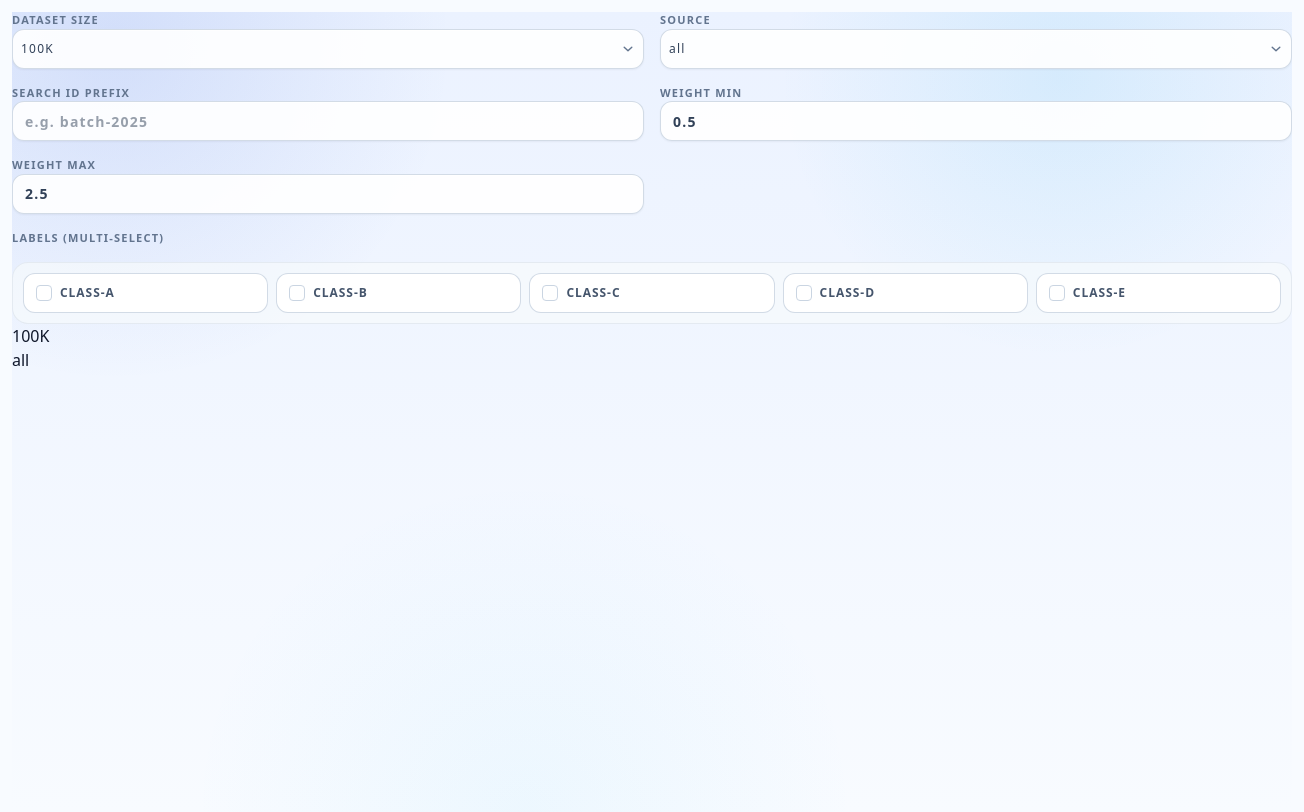
FiltersPanel › updates dataset size
This screenshot has width=1304, height=812.
Step 1. Click the dropdown named "Dataset size" → point(37, 48), box [12,28,644,68]
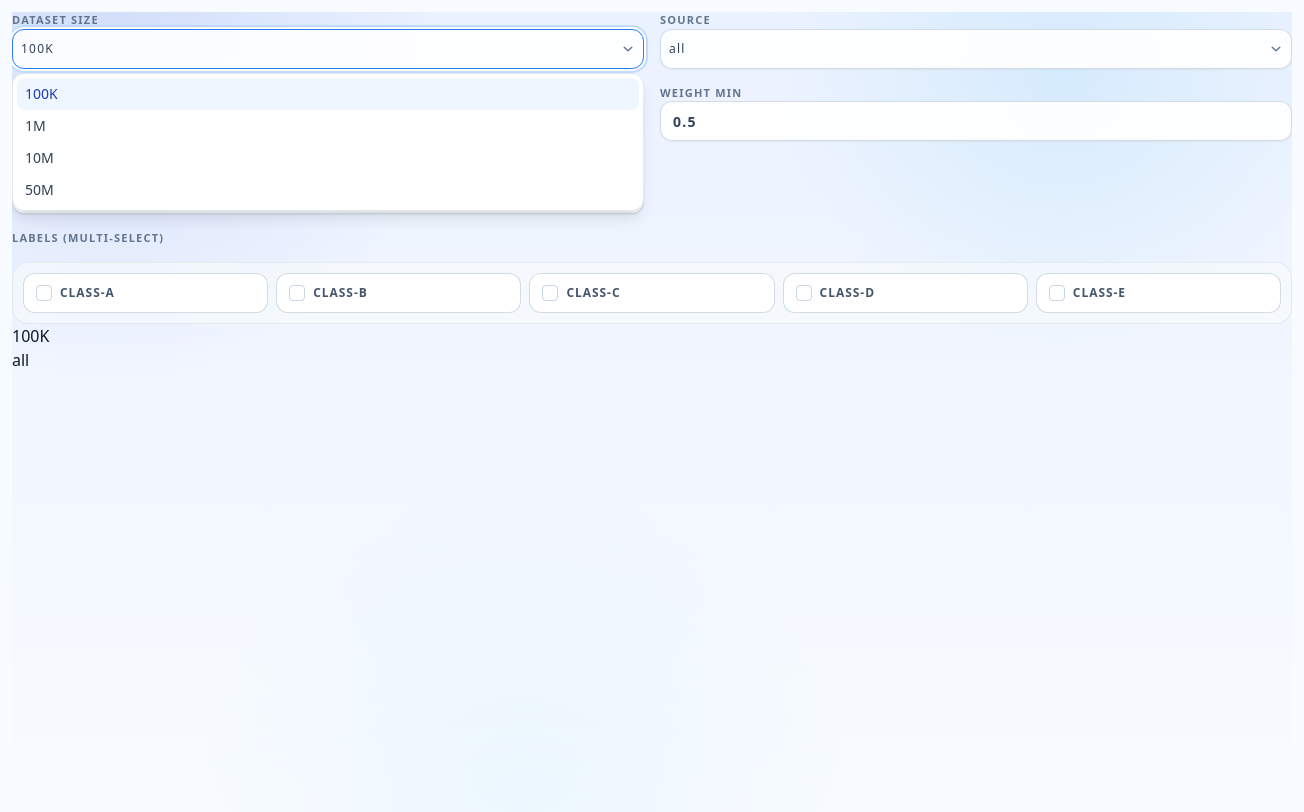
Step 2. Click the option "1M" → point(35, 125), box [17,110,639,142]
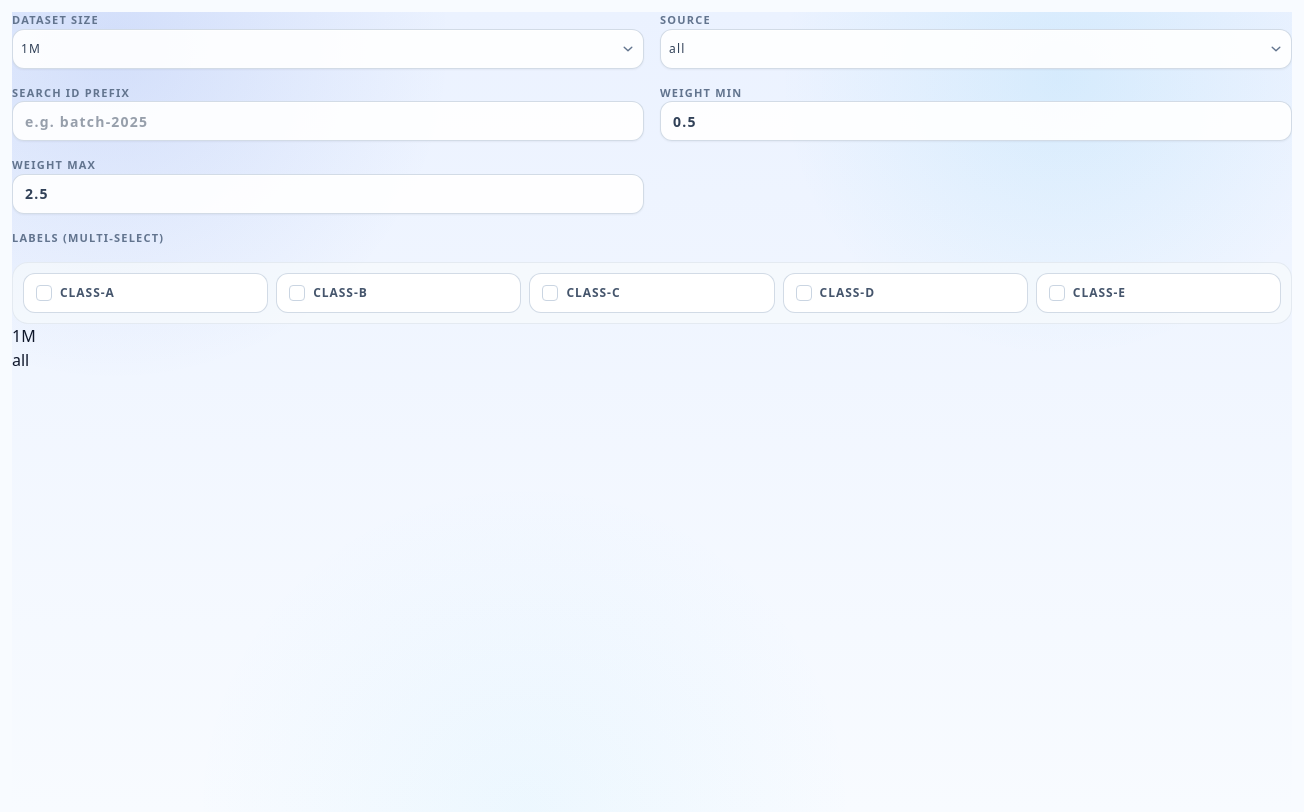
Now the text with test id "dataset-size" reads "1M", box [12,325,36,347]
